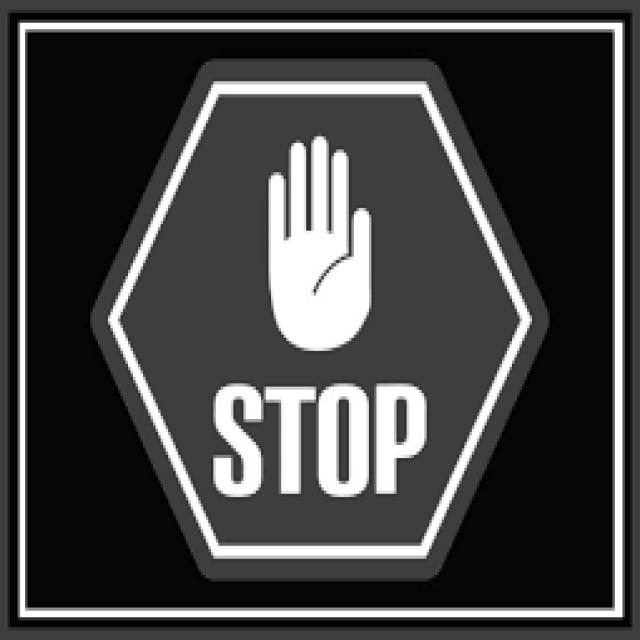Stop-sign: (89, 46, 558, 601)
